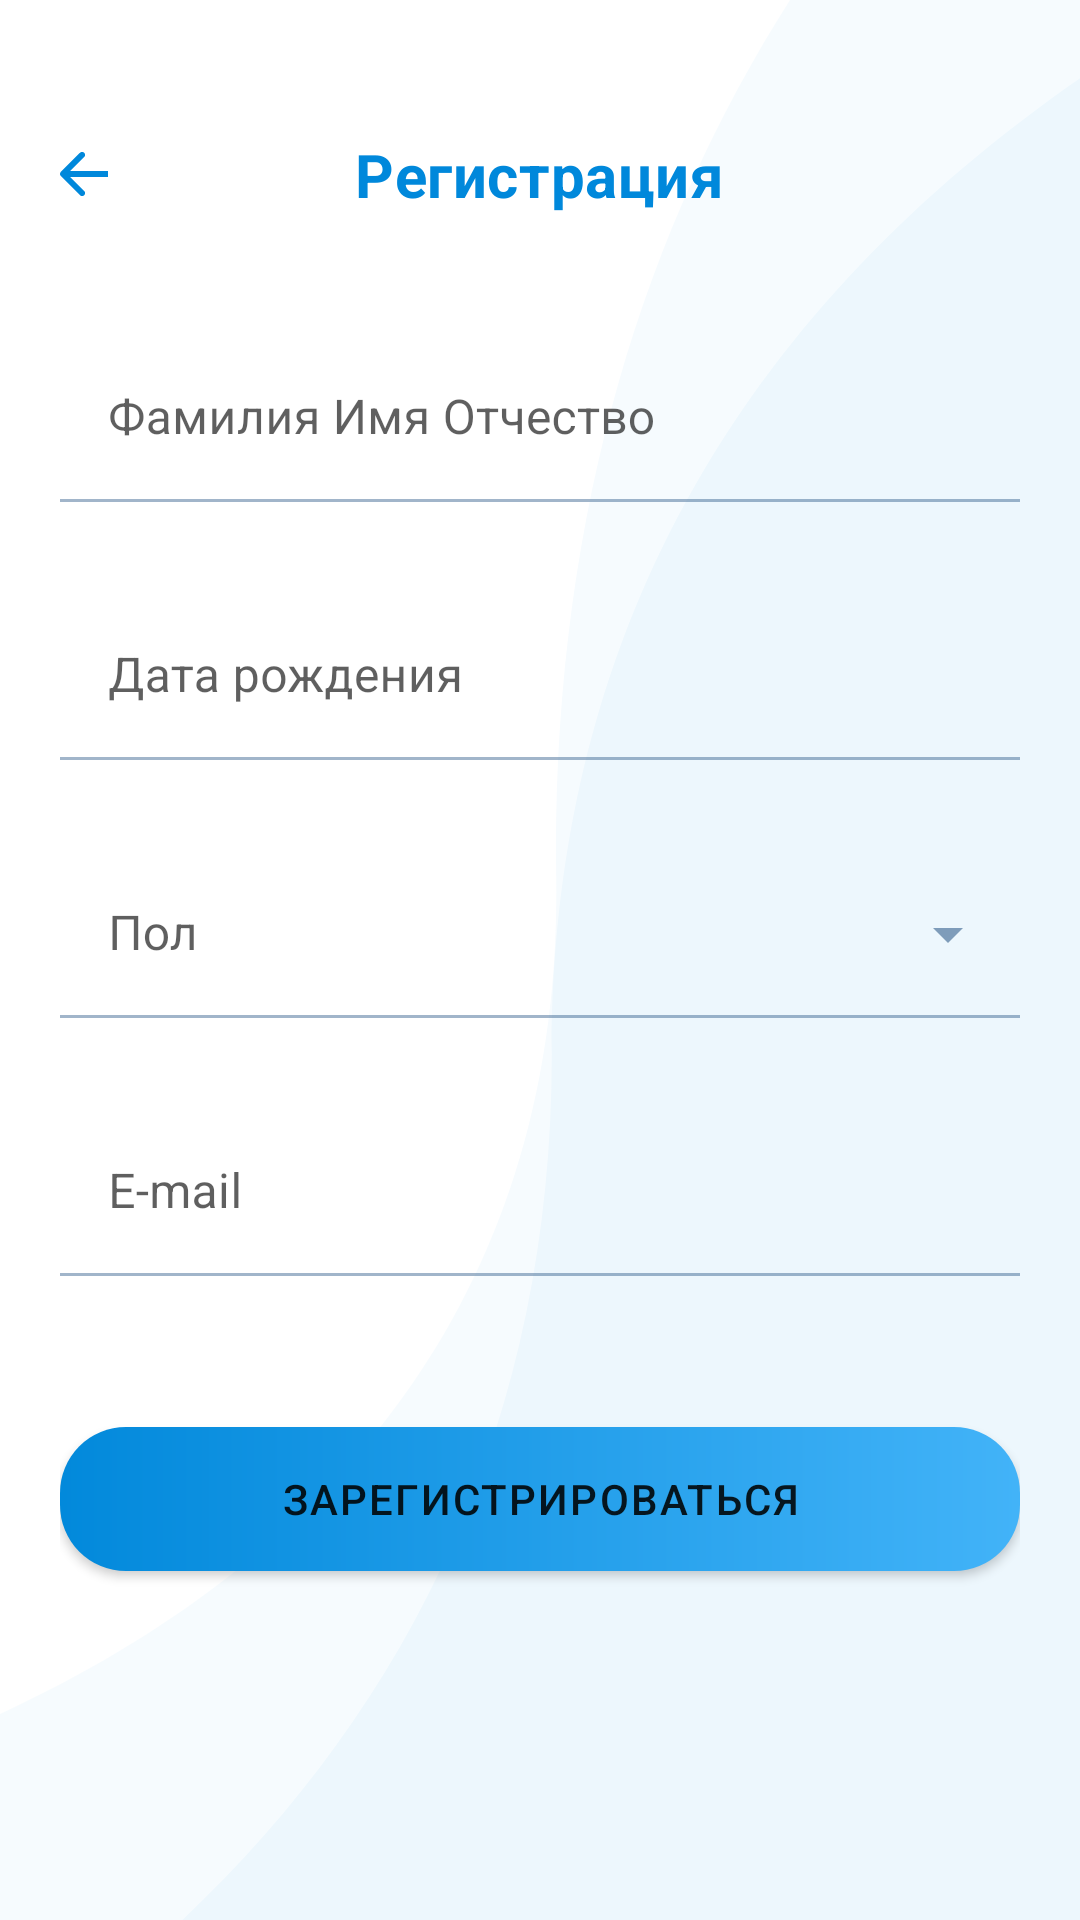

Where icons sit on this 1080x1920 app screen, as bbox=[x1, y1, x2, y2]:
back: bbox=[60, 152, 108, 196]
